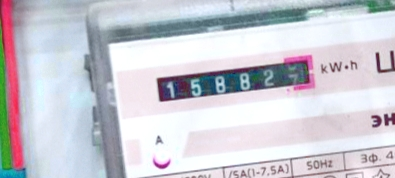1: (164, 76, 178, 96)
2: (263, 64, 276, 84)
5: (189, 73, 203, 95)
7: (288, 69, 300, 84)
8: (239, 67, 253, 90), (214, 70, 228, 92)
screen: (148, 45, 326, 108)
